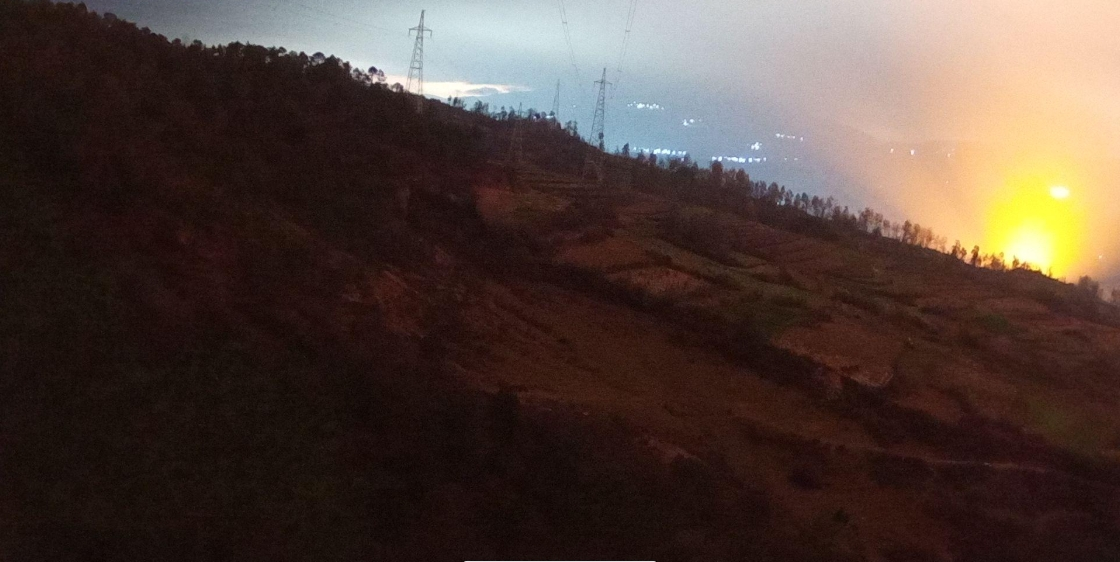山火: (989, 168, 1085, 281)
烟雾: (684, 0, 1120, 306)
